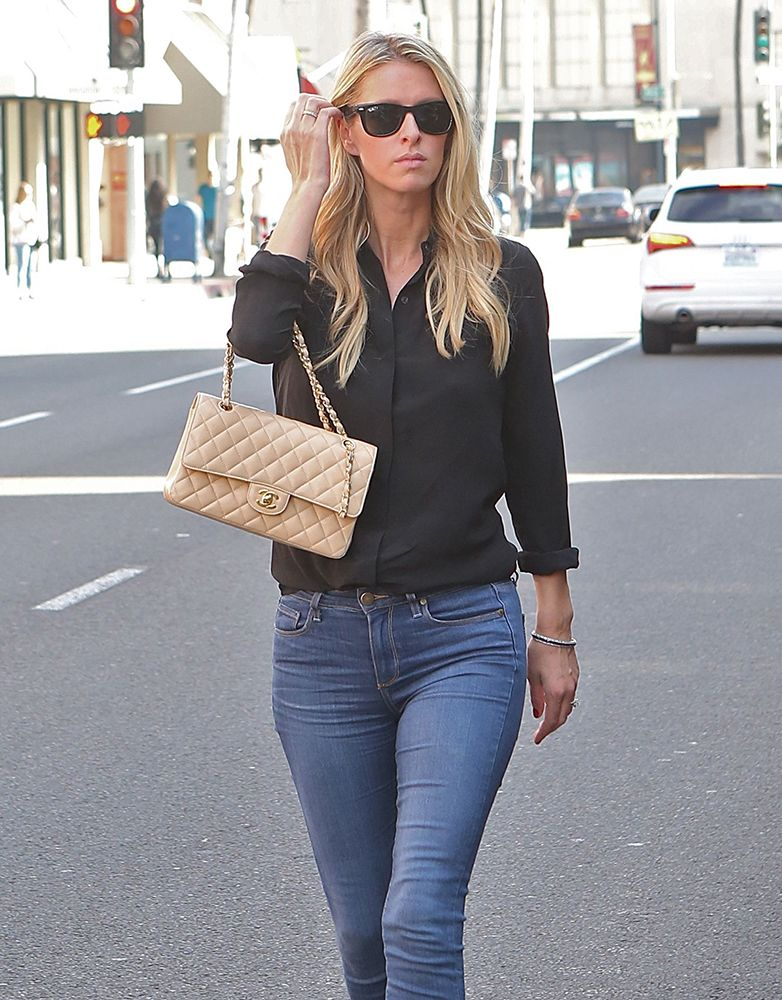channel: (170, 371, 374, 562), (238, 483, 289, 517)
